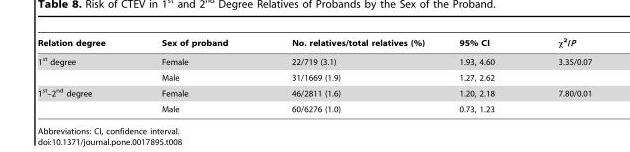table: (37, 36, 591, 113)
table column: (259, 36, 441, 113), (132, 36, 259, 113), (37, 36, 132, 113), (441, 36, 525, 113), (525, 36, 591, 113)
table column header: (37, 36, 591, 51)
table row: (37, 51, 591, 69), (37, 84, 591, 101), (37, 36, 591, 51), (37, 69, 591, 84), (37, 101, 591, 113)
table spanning cell: (37, 51, 132, 84), (37, 84, 132, 113)
